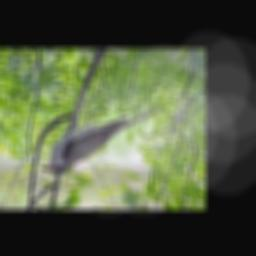Cuckoo: (38, 103, 167, 175)
